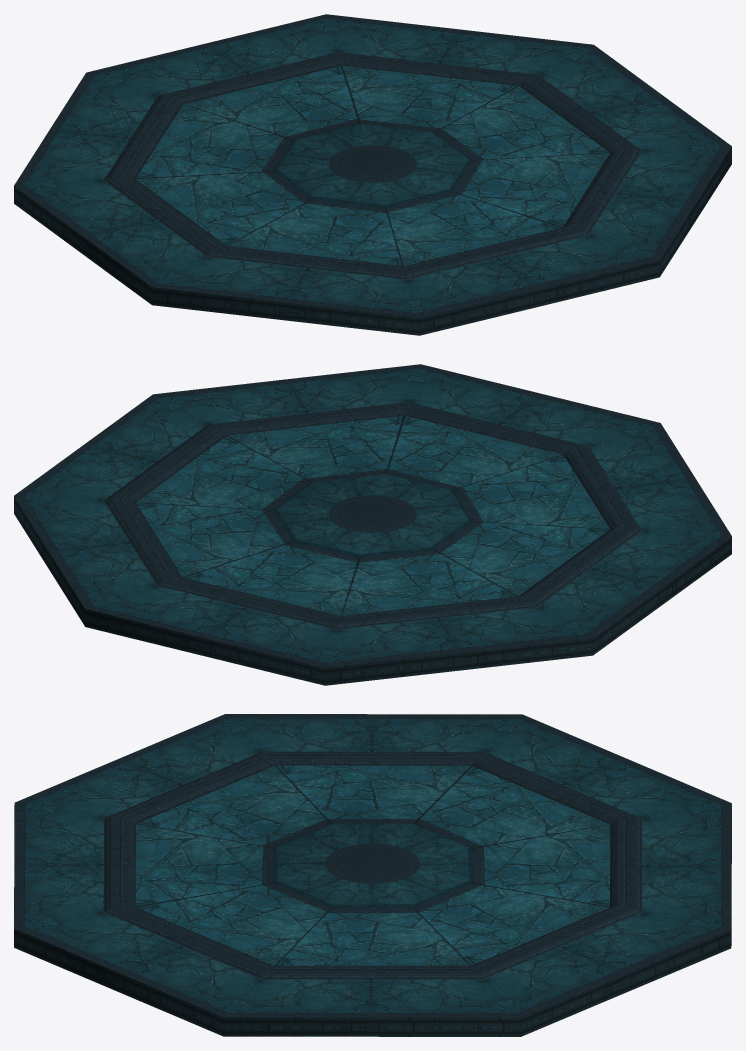
Rendered from SM_FloorOctagon.FBX.
The picture shows the model from 3 angles, top to bottom: view 1: azimuth 30°, elevation 25°; view 2: azimuth 150°, elevation 25°; view 3: azimuth 270°, elevation 25°; orthographic projection. The views are drawn at different scales.
Parts seen in each view (by area): view 1: SM_FloorOctagon; view 2: SM_FloorOctagon; view 3: SM_FloorOctagon.
Boxes of the visible parts, box(x1,y1,x2,y2) form: SM_FloorOctagon: box(14, 14, 731, 335); SM_FloorOctagon: box(14, 364, 731, 685); SM_FloorOctagon: box(14, 714, 731, 1036).
Size of the model in its own units: 765 by 35.29 by 765.
